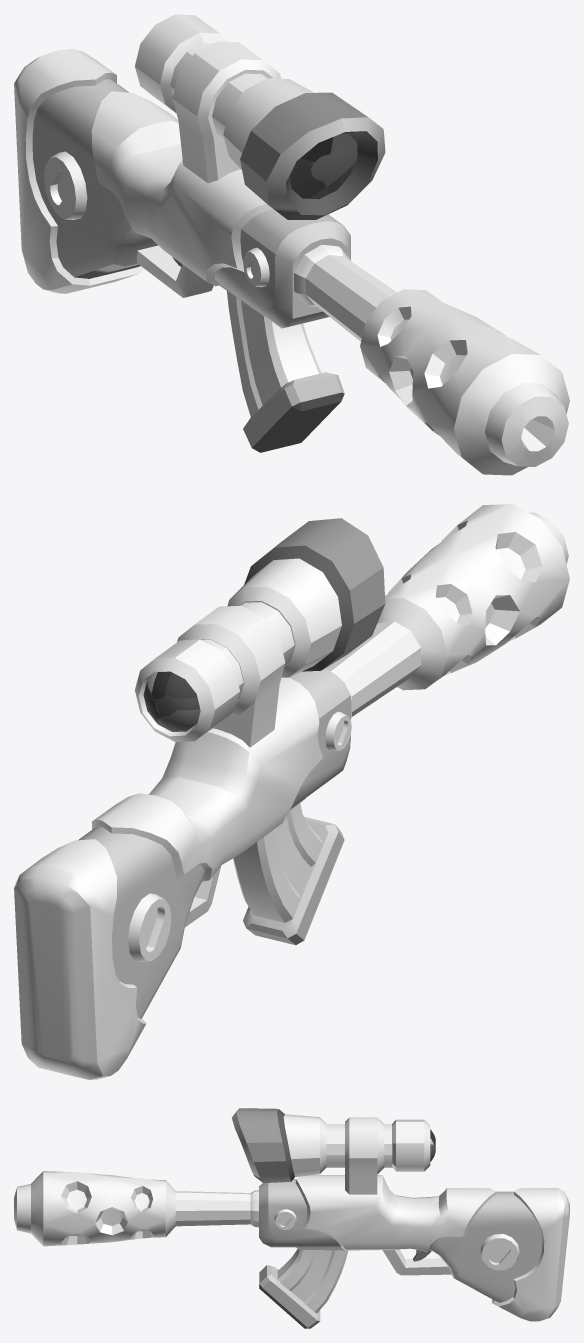
The picture shows the model from 3 angles, top to bottom: view 1: azimuth 30°, elevation 25°; view 2: azimuth 150°, elevation 25°; view 3: azimuth 270°, elevation 25°; orthographic projection. The views are drawn at different scales.
Visible parts, largest first — view 1: Weap_group1Weap8; view 2: Weap_group1Weap8; view 3: Weap_group1Weap8.
Part boxes in pixels (left/top/right/bottom): Weap_group1Weap8: left=14, top=14, right=569, bottom=475; Weap_group1Weap8: left=14, top=504, right=569, bottom=1079; Weap_group1Weap8: left=14, top=1108, right=569, bottom=1328.
Size of the model in its own units: 2.32 by 6.96 by 16.58.
